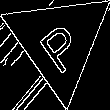P_NW: (31, 10, 86, 73)
